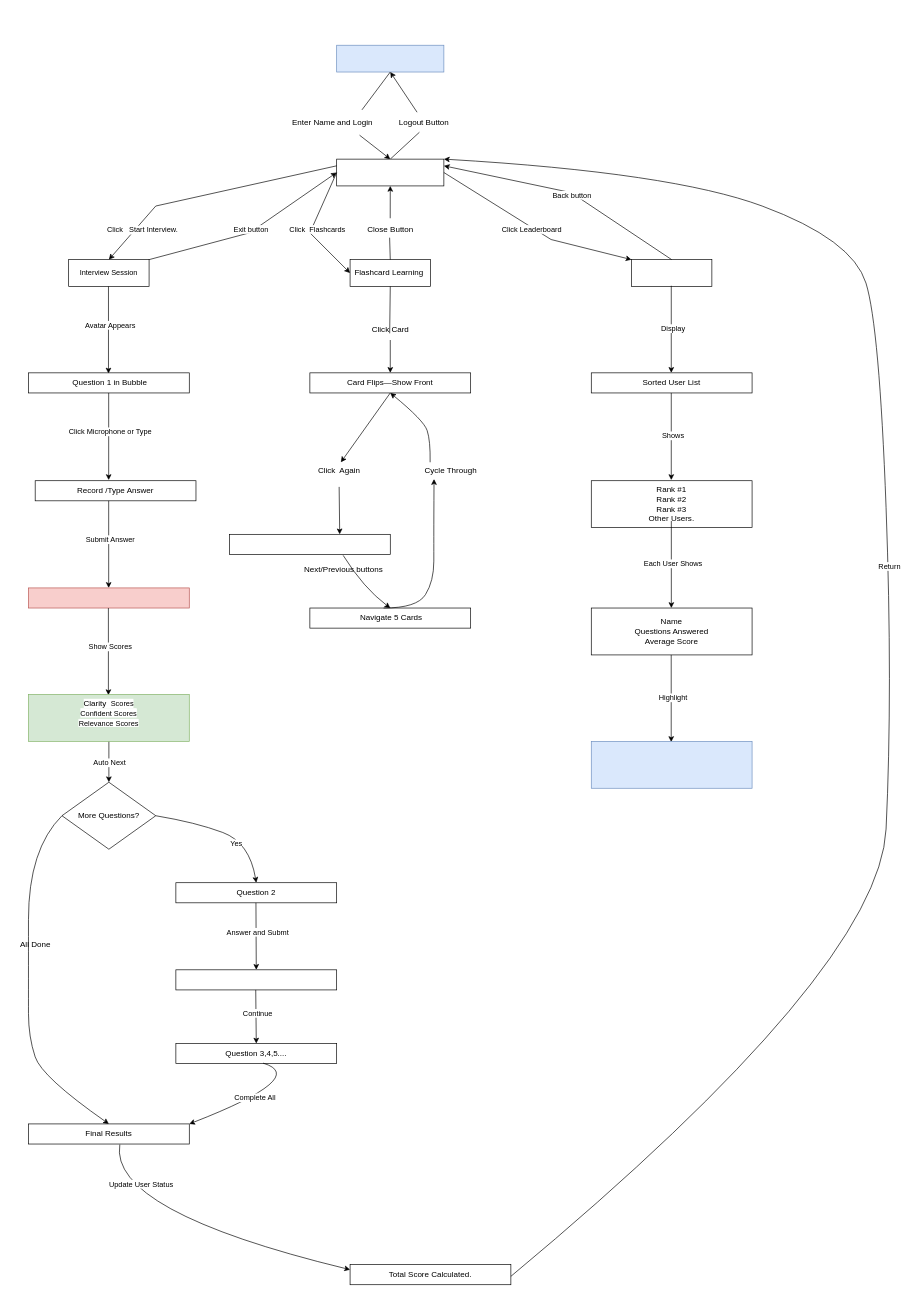
The diagram is 912 pixels wide and 1296 high, and some of its shapes have lost their labels. Here are the shapes that lost their labels. From the top down, the box of each, then its label:
(336, 45, 444, 72): Login Screen
(336, 158, 444, 186): Main Menu Dashboard
(631, 259, 712, 286): Rankings and Competitions
(229, 534, 390, 554): Card Flips—Show Back
(28, 587, 189, 608): AI Analysis
(591, 741, 752, 788): Current User in Blue
(175, 969, 337, 990): Analysis
